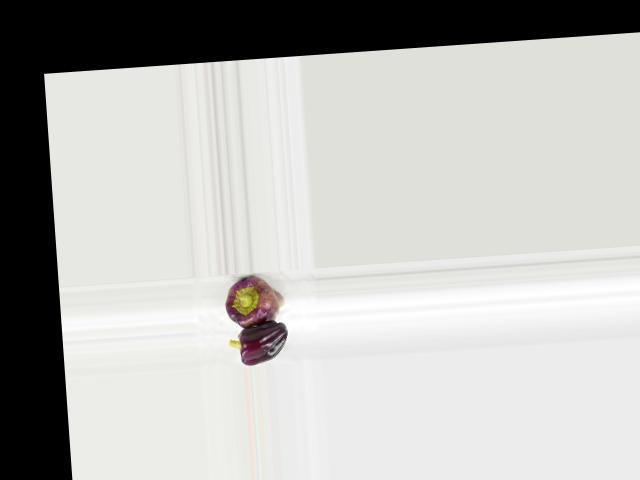bell_pepper: (211, 271, 296, 331)
